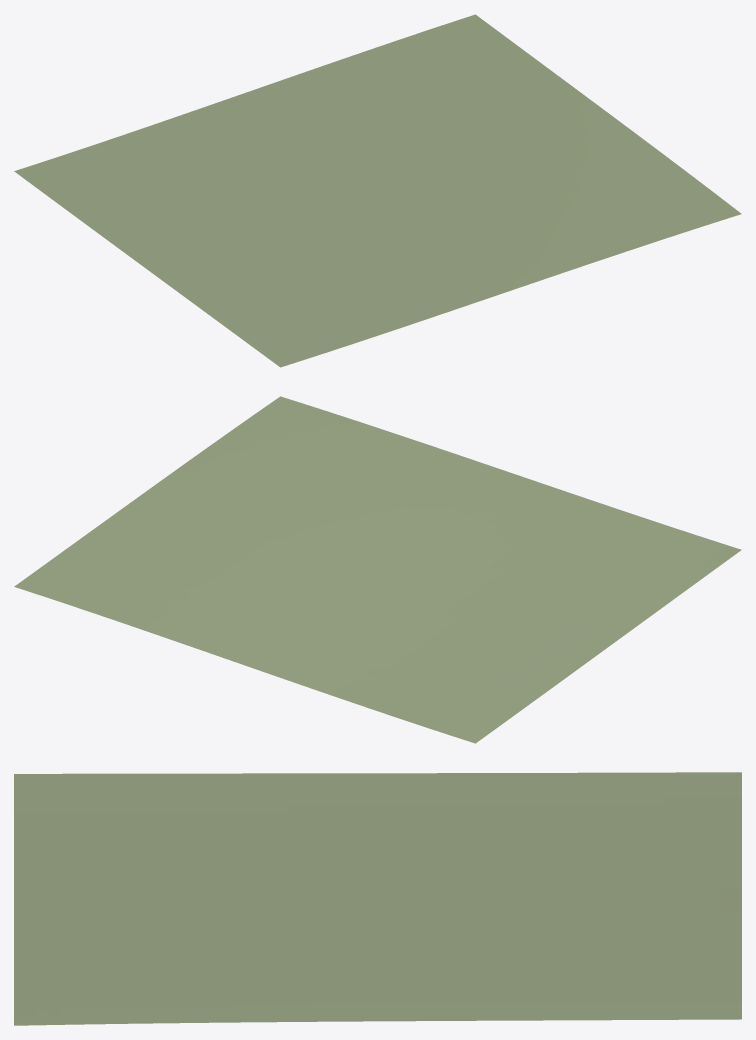
The model's file is valley-5-5.glb.
3 views of the same model, one above another, from view 1: azimuth 30°, elevation 25°; view 2: azimuth 150°, elevation 25°; view 3: azimuth 270°, elevation 25° (orthographic). The views are drawn at different scales.
Visible parts, largest first — view 1: valley-5-5; view 2: valley-5-5; view 3: valley-5-5.
Boxes of the visible parts, box(x1,y1,x2,y2) form: valley-5-5: box(14, 14, 741, 367); valley-5-5: box(14, 396, 741, 743); valley-5-5: box(14, 772, 741, 1025).
Size of the model in its own units: 256 by 24.1 by 256.
